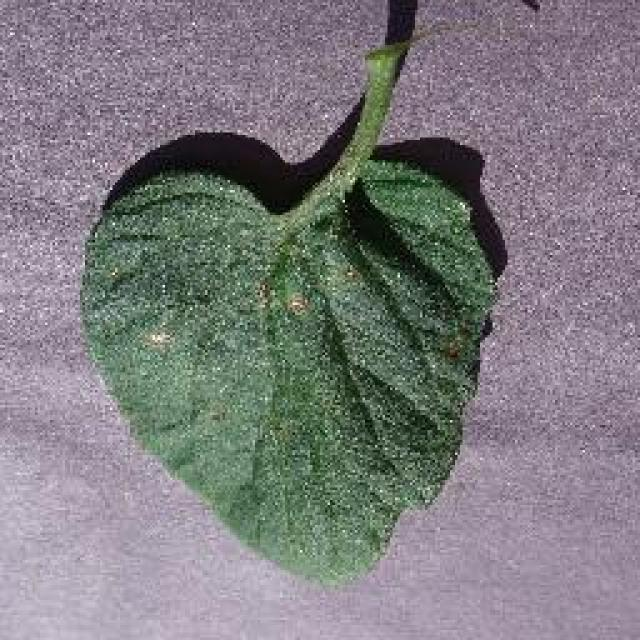Tomato___Target_Spot: (85, 40, 492, 580)
